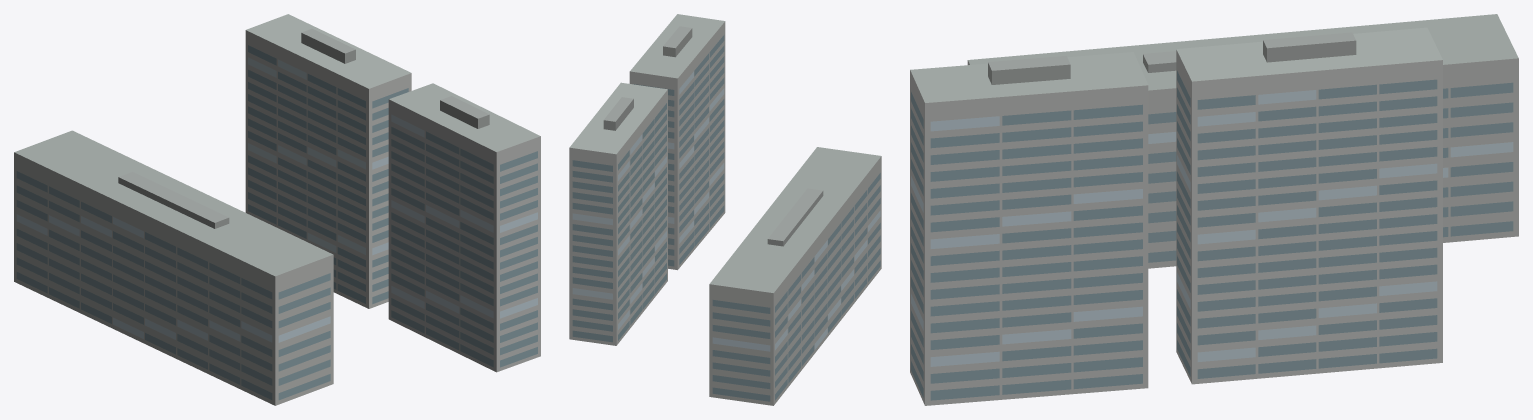
File: apt-a13204503.glb
3 renders of one model, left to right at view 1: azimuth 30°, elevation 25°; view 2: azimuth 150°, elevation 25°; view 3: azimuth 270°, elevation 25°, orthographic. The views are drawn at different scales.
Visible parts, largest first — view 1: apt-a13204503; view 2: apt-a13204503; view 3: apt-a13204503.
Boxes of the visible parts, box(x1,y1,x2,y2) form: apt-a13204503: box(14, 14, 540, 405); apt-a13204503: box(569, 14, 881, 405); apt-a13204503: box(910, 14, 1518, 405).
Bounding box in the file's own units: 73.76 × 51 × 88.72.
